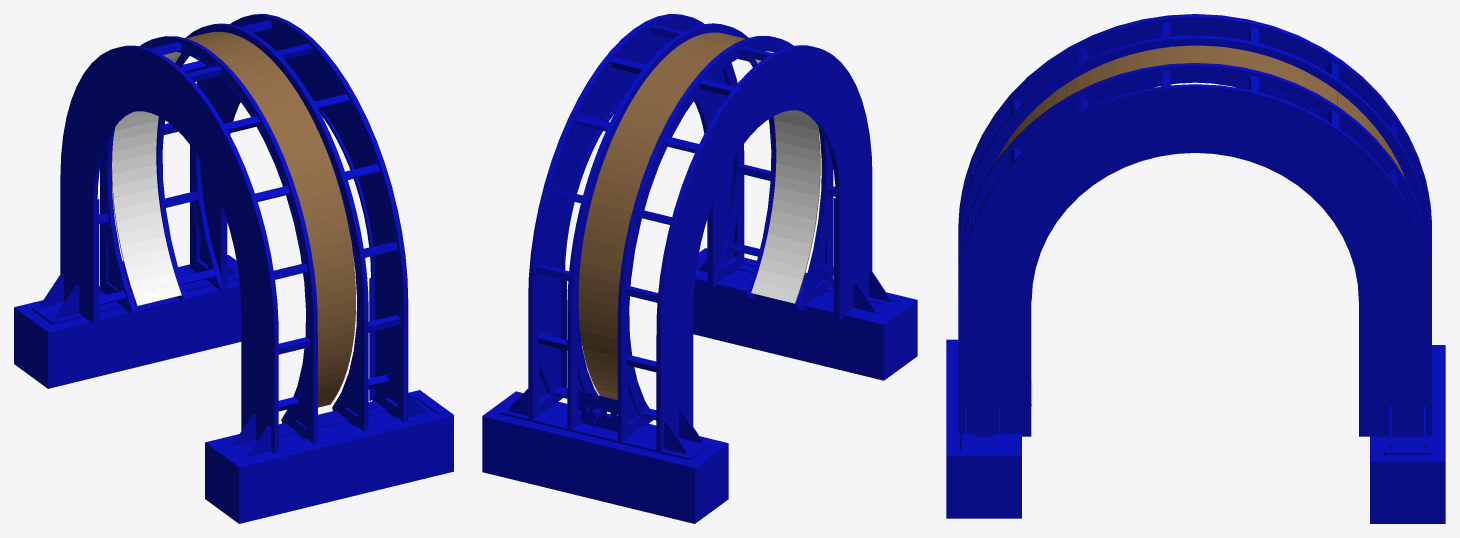
File: OT-2575 Instalacion_IDF_QEye.dae
3 views of the same model, side by side, from view 1: azimuth 30°, elevation 25°; view 2: azimuth 150°, elevation 25°; view 3: azimuth 270°, elevation 25° (orthographic). The views are drawn at different scales.
Parts seen in each view (by area): view 1: node0, node10, node8, node6, node4, node14, node2, node12, node16, node18, node22, node20 (+16 smaller); view 2: node0, node140, node148, node144, node138, node136, node146, node132, node142, node130, node134, node41 (+16 smaller); view 3: node0.
Boxes of the visible parts, bbox=[...] form: node0: bbox=[14, 14, 453, 523]; node10: bbox=[121, 235, 167, 258]; node8: bbox=[123, 248, 170, 270]; node6: bbox=[126, 260, 173, 282]; node4: bbox=[130, 272, 177, 294]; node14: bbox=[116, 211, 162, 234]; node2: bbox=[133, 283, 181, 305]; node12: bbox=[118, 224, 164, 246]; node16: bbox=[115, 199, 160, 222]; node18: bbox=[113, 187, 158, 209]; node22: bbox=[112, 164, 156, 186]; node20: bbox=[112, 176, 157, 197]; node0: bbox=[482, 14, 917, 523]; node140: bbox=[765, 234, 811, 256]; node148: bbox=[751, 281, 798, 303]; node144: bbox=[759, 258, 805, 279]; node138: bbox=[768, 222, 813, 244]; node136: bbox=[770, 210, 815, 232]; node146: bbox=[755, 269, 802, 291]; node132: bbox=[773, 186, 818, 208]; node142: bbox=[762, 246, 808, 268]; node130: bbox=[775, 174, 819, 196]; node134: bbox=[772, 198, 817, 220]; node41: bbox=[591, 190, 635, 211]; node0: bbox=[946, 14, 1445, 523].
Size of the model in its own units: 1.87 by 3.39 by 3.11.
